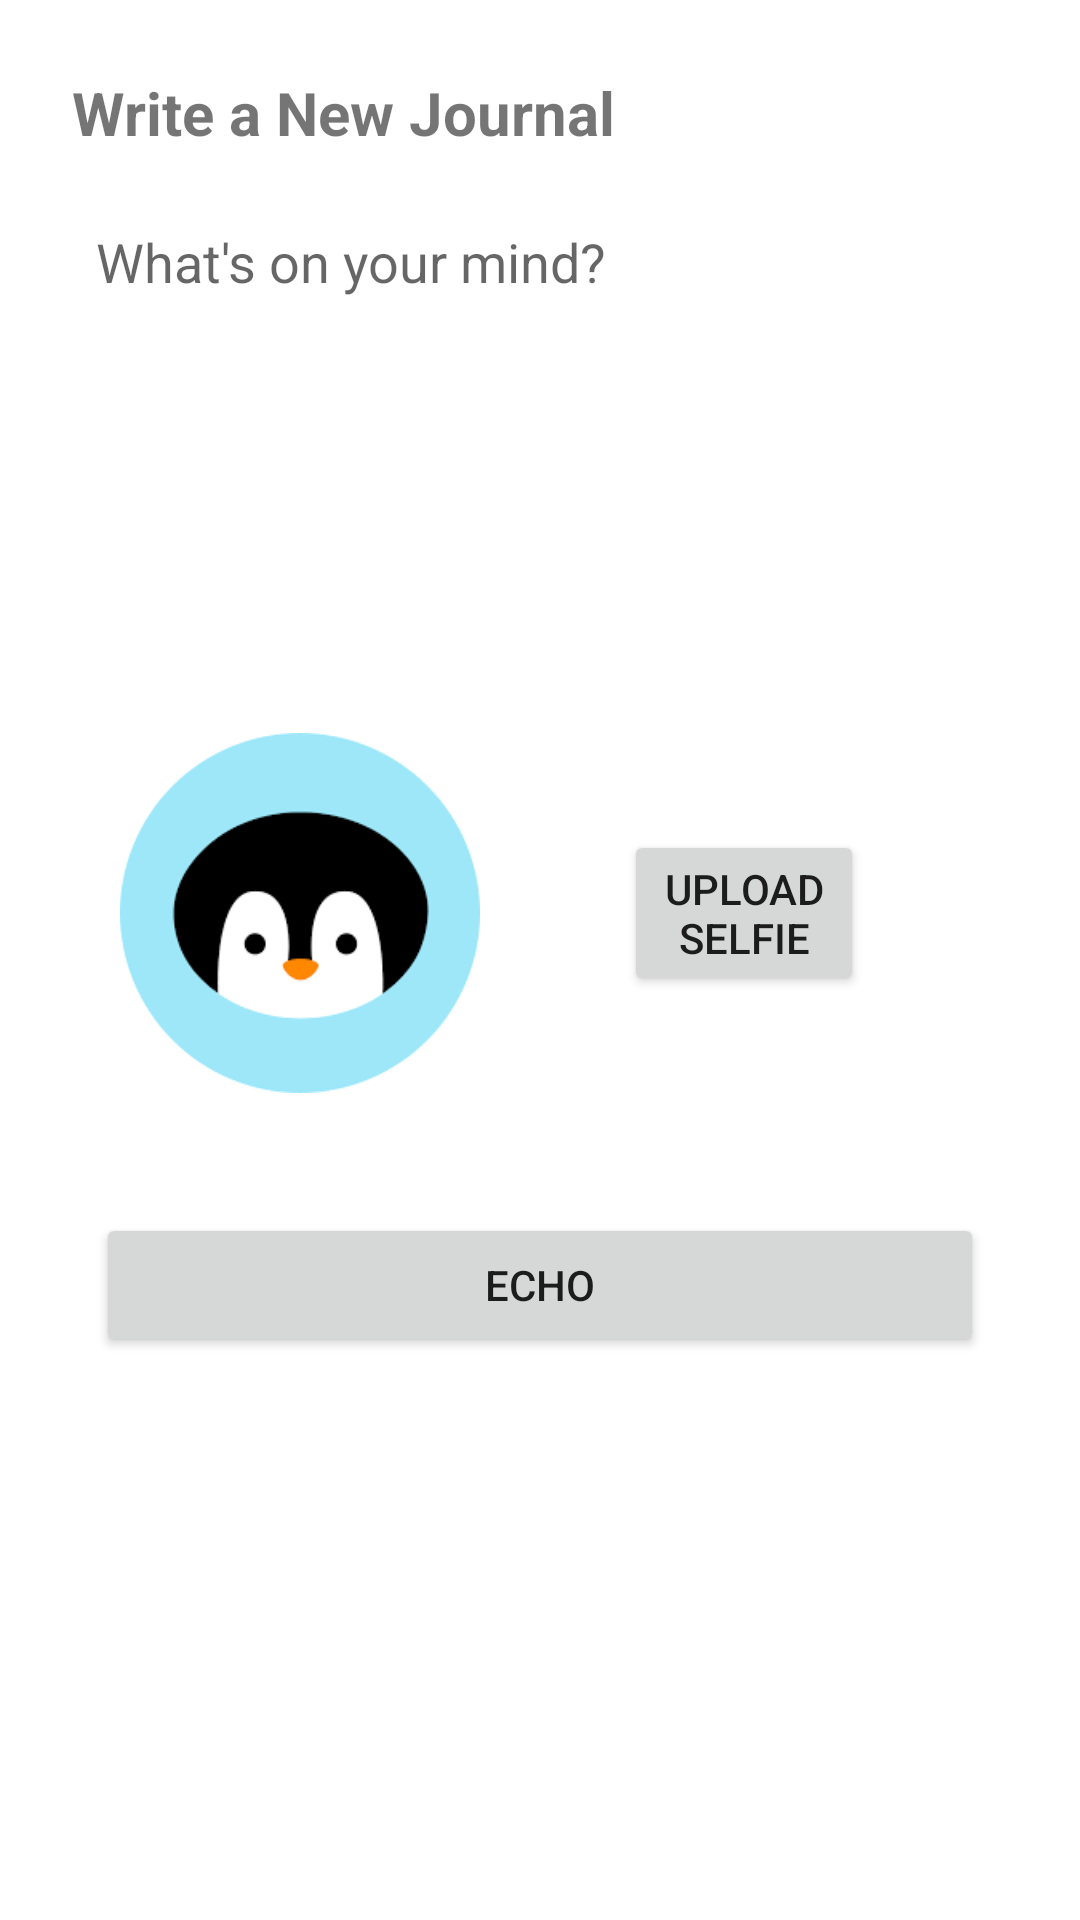

Icons on this 1080×1920 Android screen, each with the point to tap as (x=x, y=y):
profile: (x=300, y=913)
